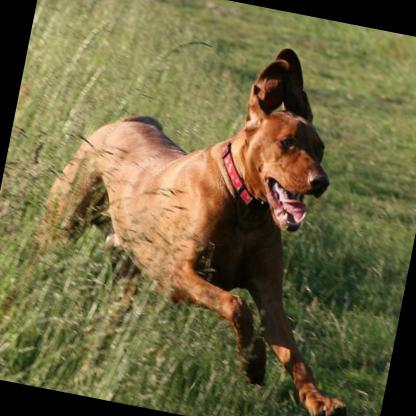vizsla: (0, 2, 412, 416)
